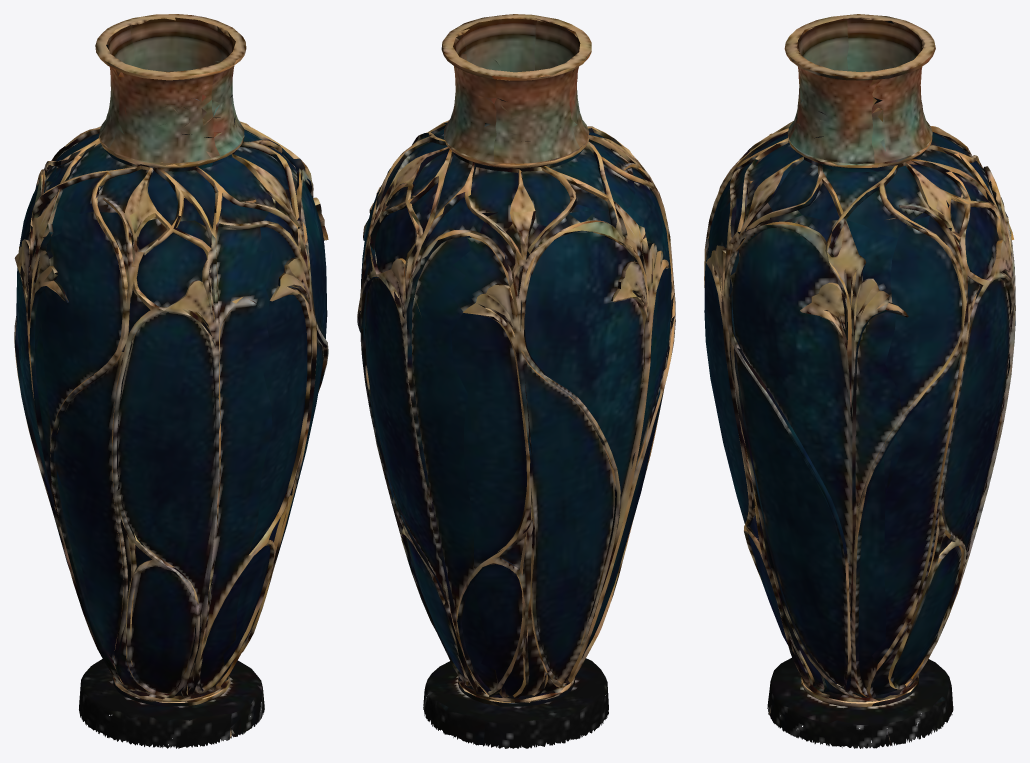
The model's file is HY-10_vase_game.glb.
The picture shows the model from 3 angles, left to right: view 1: azimuth 30°, elevation 25°; view 2: azimuth 150°, elevation 25°; view 3: azimuth 270°, elevation 25°; orthographic projection.
Visible parts, largest first — view 1: HY-10_vase; view 2: HY-10_vase; view 3: HY-10_vase.
Boxes of the visible parts, <box> form: HY-10_vase: <box>14,14,328,748</box>; HY-10_vase: <box>357,14,675,748</box>; HY-10_vase: <box>704,14,1015,748</box>.
Bounding box in the file's own units: 0.1659 × 0.38 × 0.1615.
Materials: 1 (1 with a texture image).
